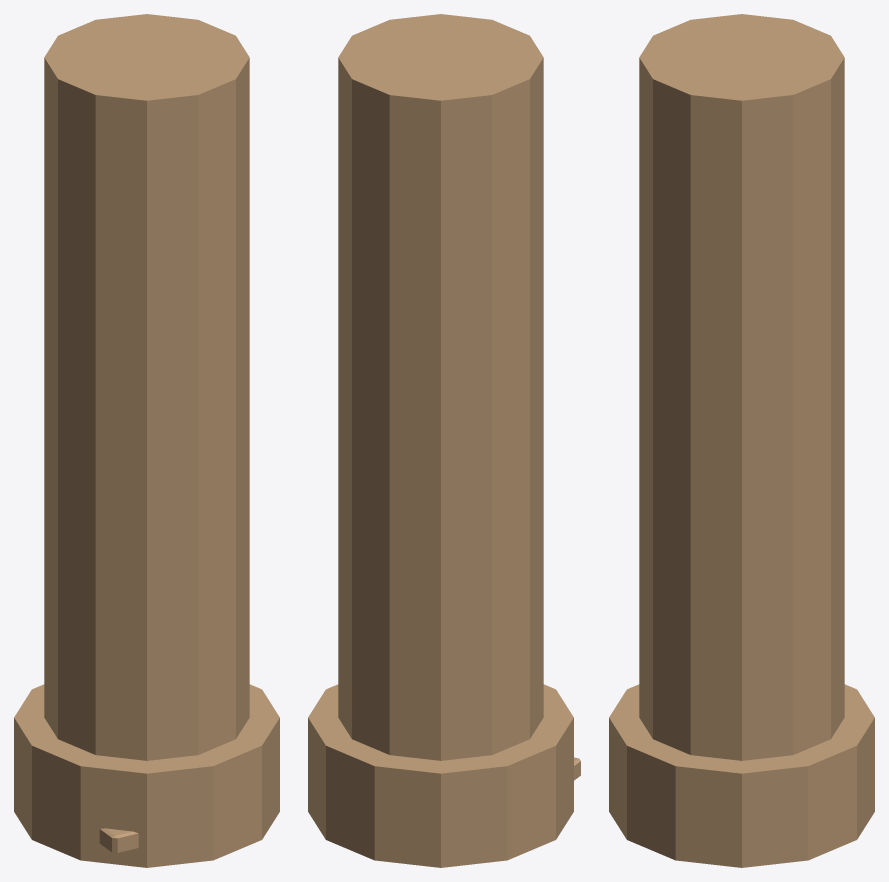
Rendered from b01_timber_trail_bollard.glb.
3 renders of one model, left to right at view 1: azimuth 30°, elevation 25°; view 2: azimuth 150°, elevation 25°; view 3: azimuth 270°, elevation 25°, orthographic.
Visible parts, largest first — view 1: b01_timber_trail_bollard; view 2: b01_timber_trail_bollard; view 3: b01_timber_trail_bollard.
Boxes of the visible parts, x1,y1,x2,y2 form: b01_timber_trail_bollard: (14,14,279,867); b01_timber_trail_bollard: (308,14,580,867); b01_timber_trail_bollard: (609,14,874,867).
Bounding box in the file's own units: 0.32 × 1 × 0.32.
